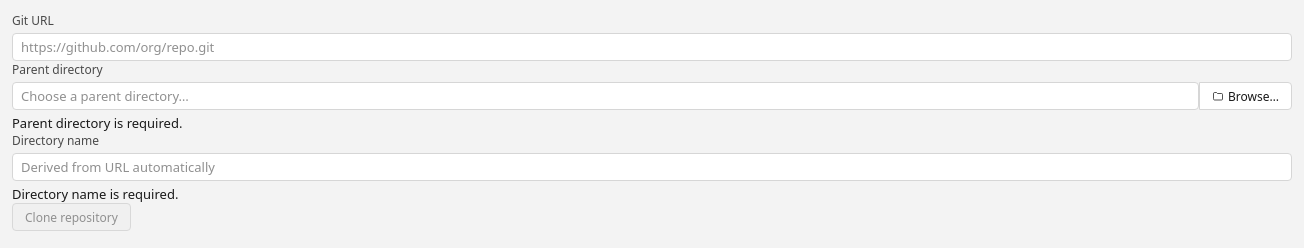
Test case: CloneRepositoryForm — URL auto-derives directory name › auto-fills from SSH URL
Type "git@github.com:org/my-repo.git" into the field with test id "clone-url" at {"x": 652, "y": 47}, box [12,33,1292,61]
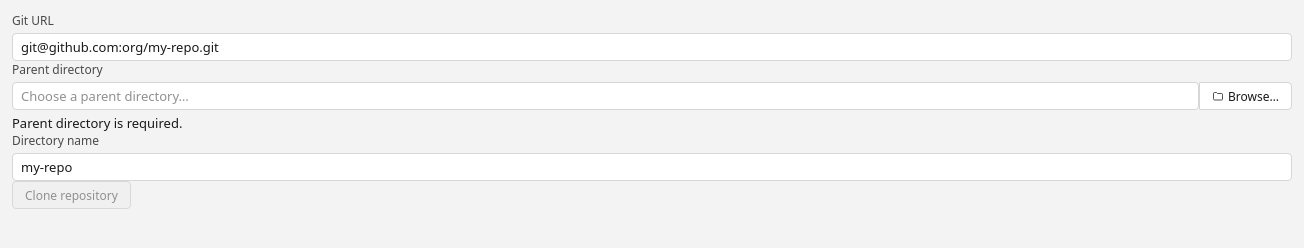
Expected: the field with test id "clone-dirname" holds "my-repo", [12,153,1292,181]
